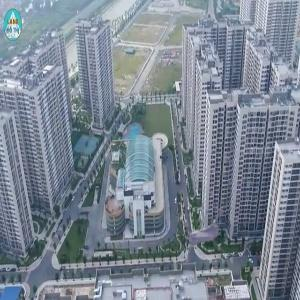drone: (171, 191, 243, 263)
